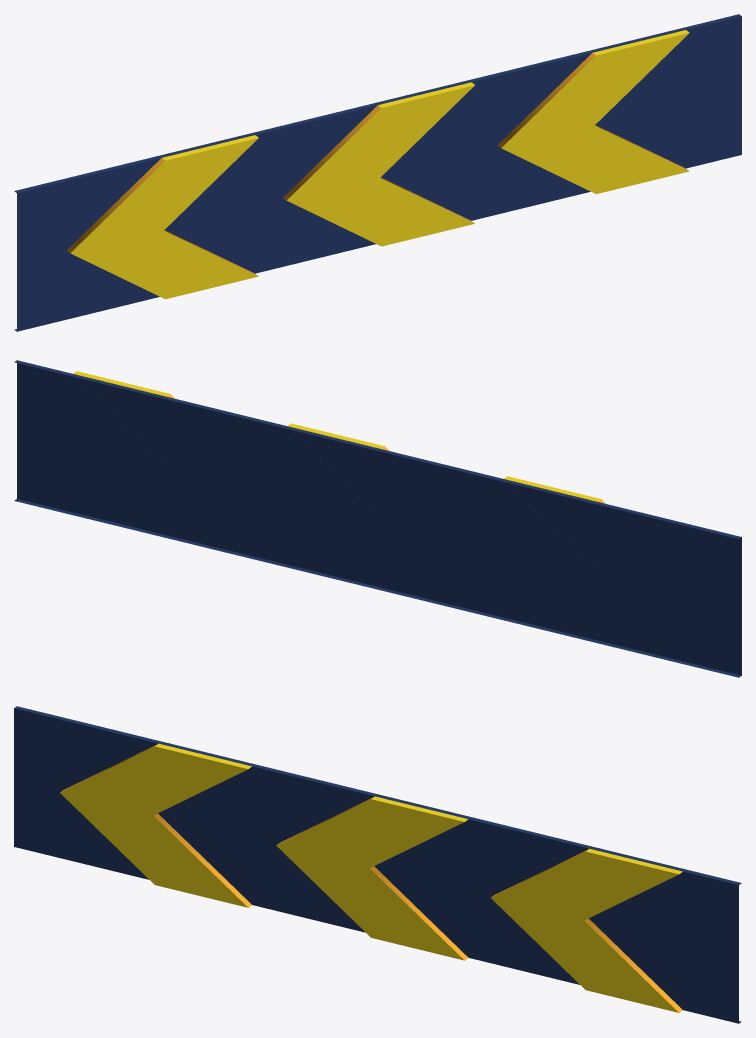
File: HX-zhixiang.FBX
3 renders of one model, top to bottom at view 1: azimuth 30°, elevation 25°; view 2: azimuth 150°, elevation 25°; view 3: azimuth 330°, elevation 25°, orthographic.
Parts seen in each view (by area): view 1: zhixiang; view 2: zhixiang; view 3: zhixiang.
Boxes of the visible parts, x1,y1,x2,y2 form: zhixiang: [14, 14, 741, 331]; zhixiang: [14, 360, 741, 677]; zhixiang: [14, 706, 741, 1023].
Bounding box in the file's own units: 1504 × 275 × 24.13.
